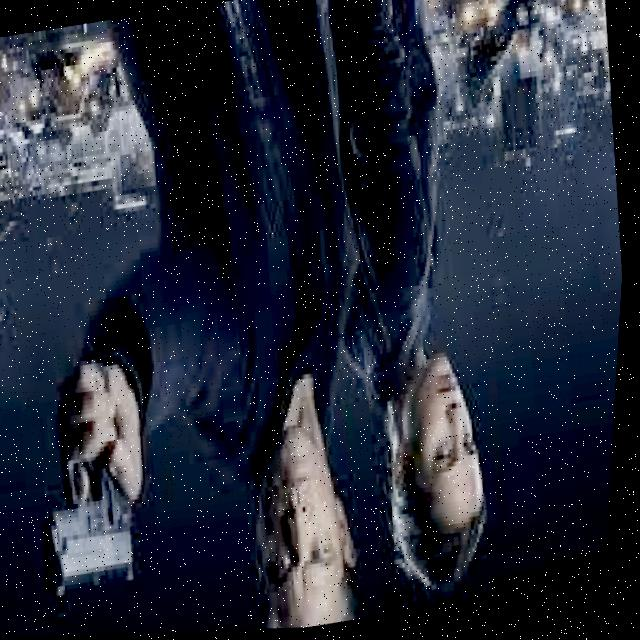pistol: (35, 445, 155, 612)
